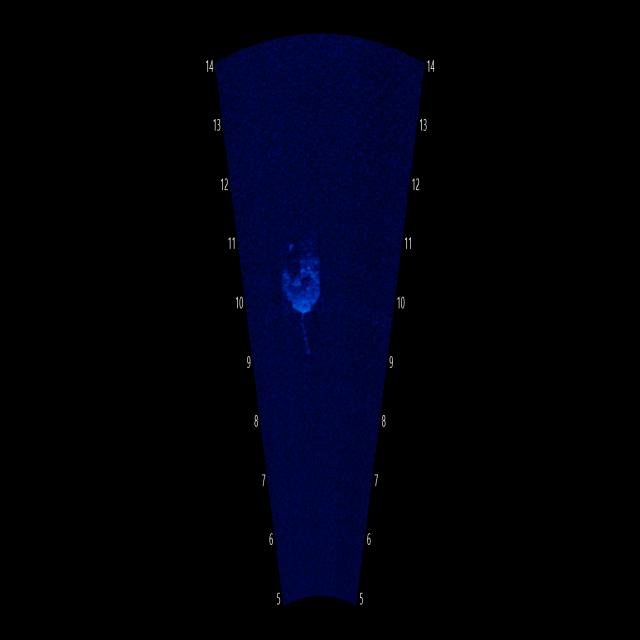circle: (270, 203, 330, 334)
